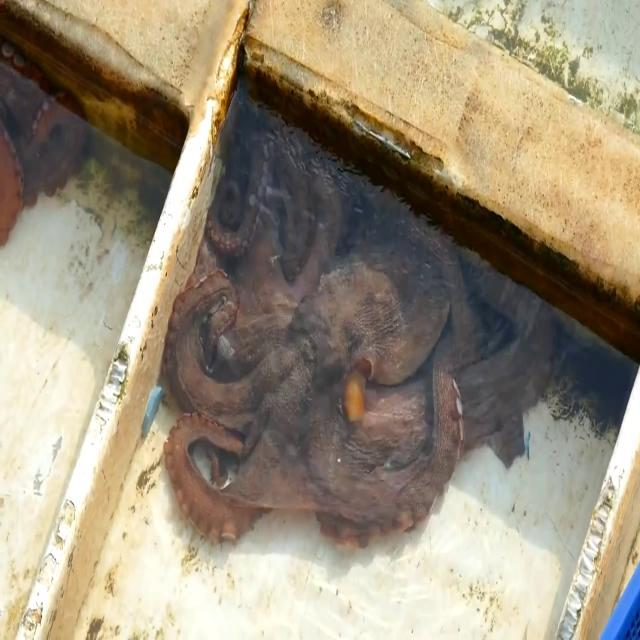octopus: (160, 85, 552, 552)
